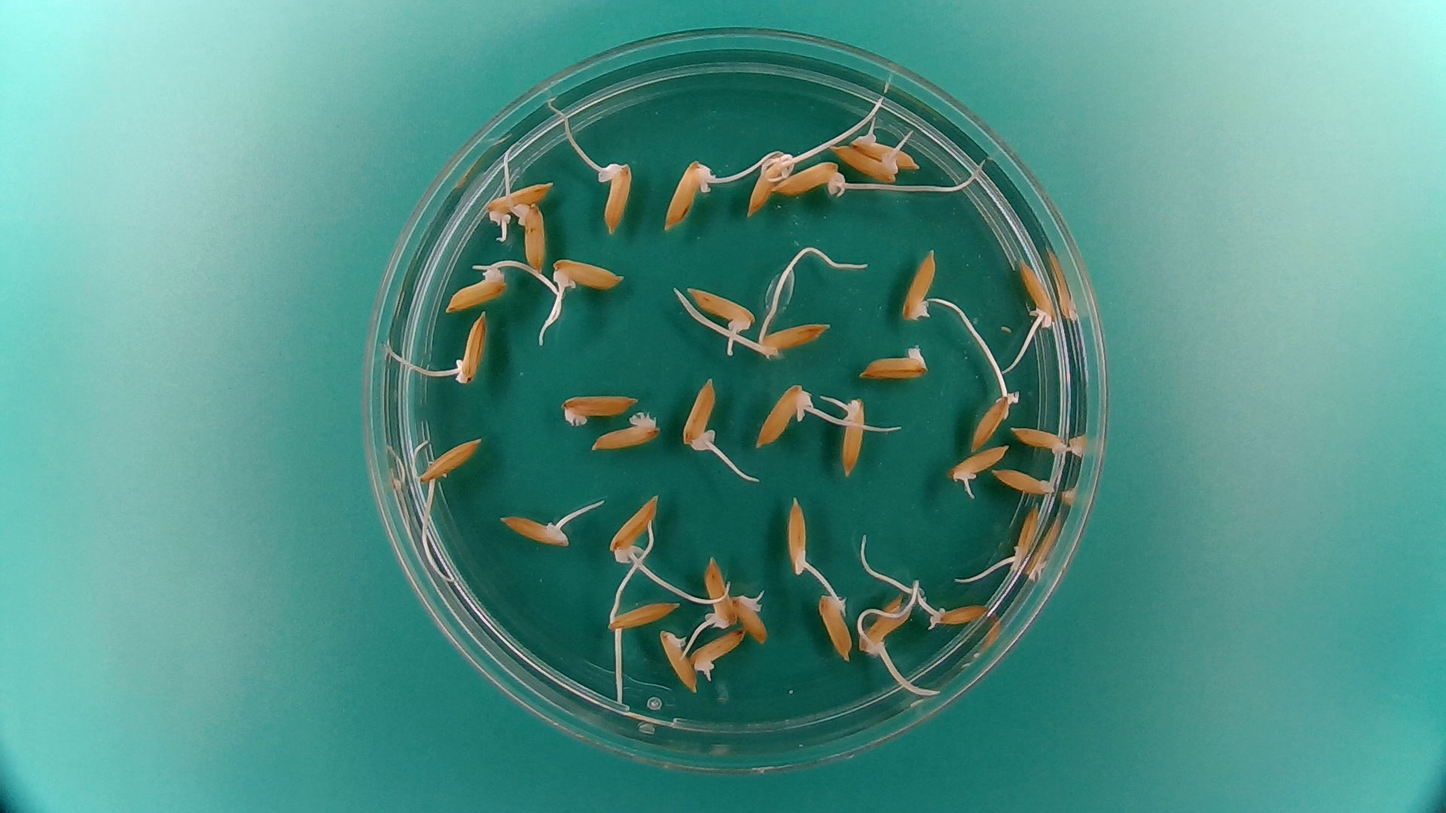no: (557, 389, 639, 427), (900, 245, 939, 324), (588, 410, 661, 452), (656, 627, 697, 692), (989, 462, 1062, 498), (816, 595, 856, 660), (1009, 424, 1072, 462), (864, 346, 928, 380)
yes: (754, 380, 816, 449), (612, 491, 665, 563), (679, 284, 754, 333), (419, 434, 484, 486), (482, 174, 556, 219), (665, 160, 713, 228), (968, 385, 1017, 451), (682, 376, 725, 449), (859, 598, 908, 661), (441, 269, 510, 313), (746, 152, 794, 215), (834, 393, 870, 476), (512, 198, 550, 276), (947, 439, 1012, 483), (1018, 257, 1060, 324), (452, 307, 488, 385), (495, 516, 577, 550), (756, 321, 825, 360), (831, 144, 898, 184), (688, 628, 746, 674), (778, 159, 843, 199), (602, 160, 636, 235), (552, 257, 620, 294), (852, 134, 917, 171), (606, 599, 674, 633), (1009, 504, 1042, 574), (730, 589, 770, 645), (703, 558, 734, 629), (786, 501, 811, 580), (923, 599, 996, 625)
